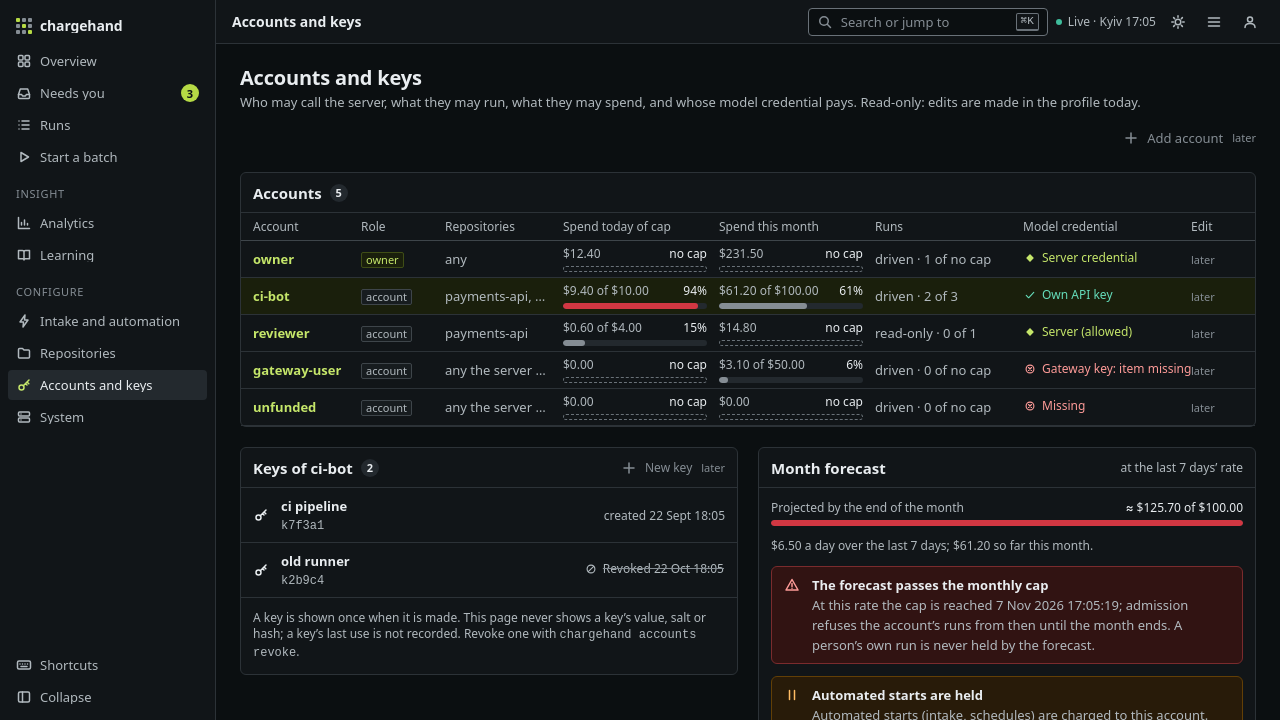
Month forecast › warns on the selected account when the forecast passes its cap, and not under it
Check: the table named "Accounts" is shown, box [241,213,1255,426]
Check: the text "The forecast passes the monthly cap" is shown, box [812,576,1048,594]
Click the button "gateway-user". click: (297, 370)
box: [253,360,341,380]
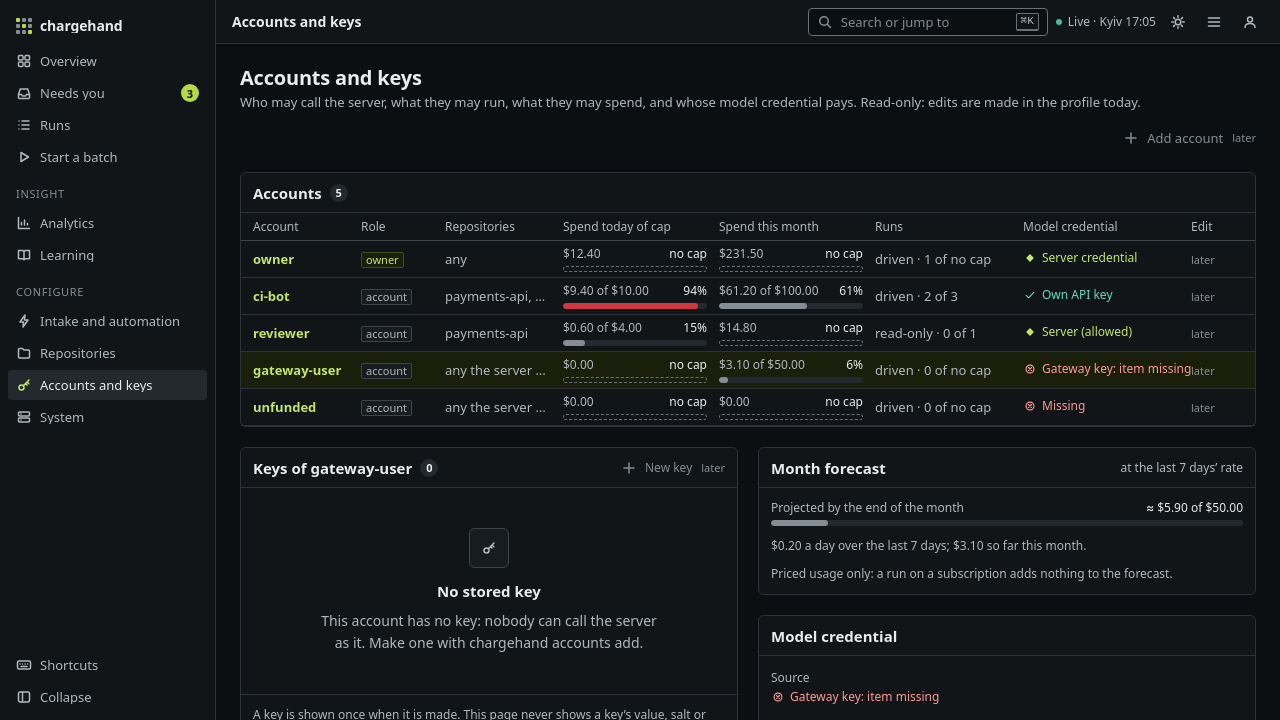
Check: the text "The forecast passes the monthly cap" is gone
Check: the text "$0.20 a day over the last 7 days; $3.10 so far this month." is shown, box [771,537,1086,554]
